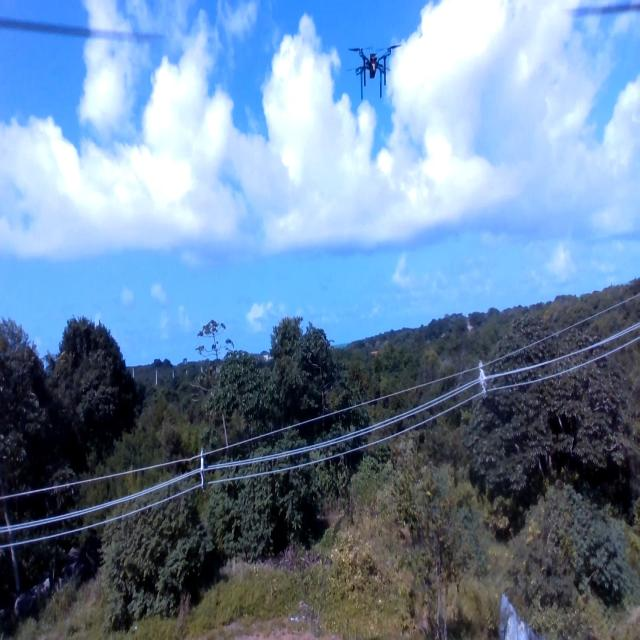-uav-: (344, 34, 408, 122)
